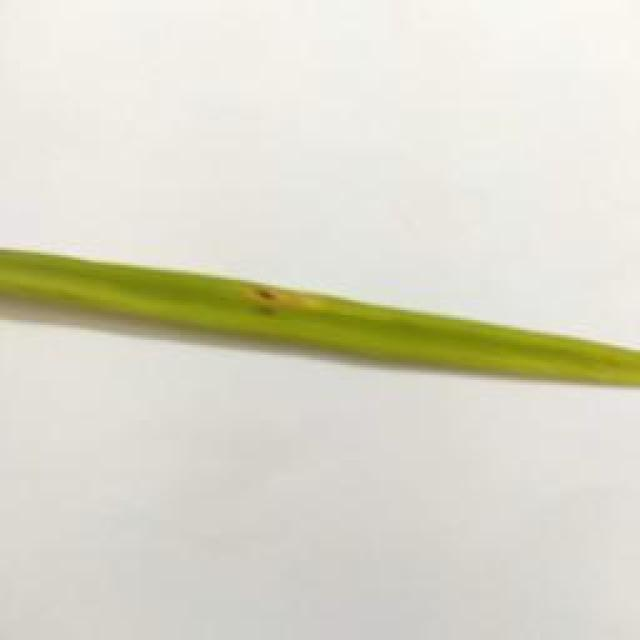Brown_Spot: (238, 272, 296, 316)
